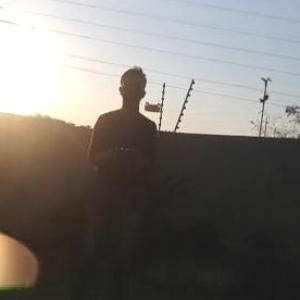follow: (76, 62, 159, 299)
